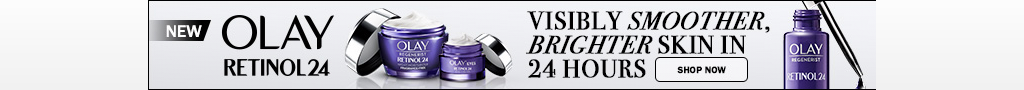fake_button: (647, 54, 766, 90)
